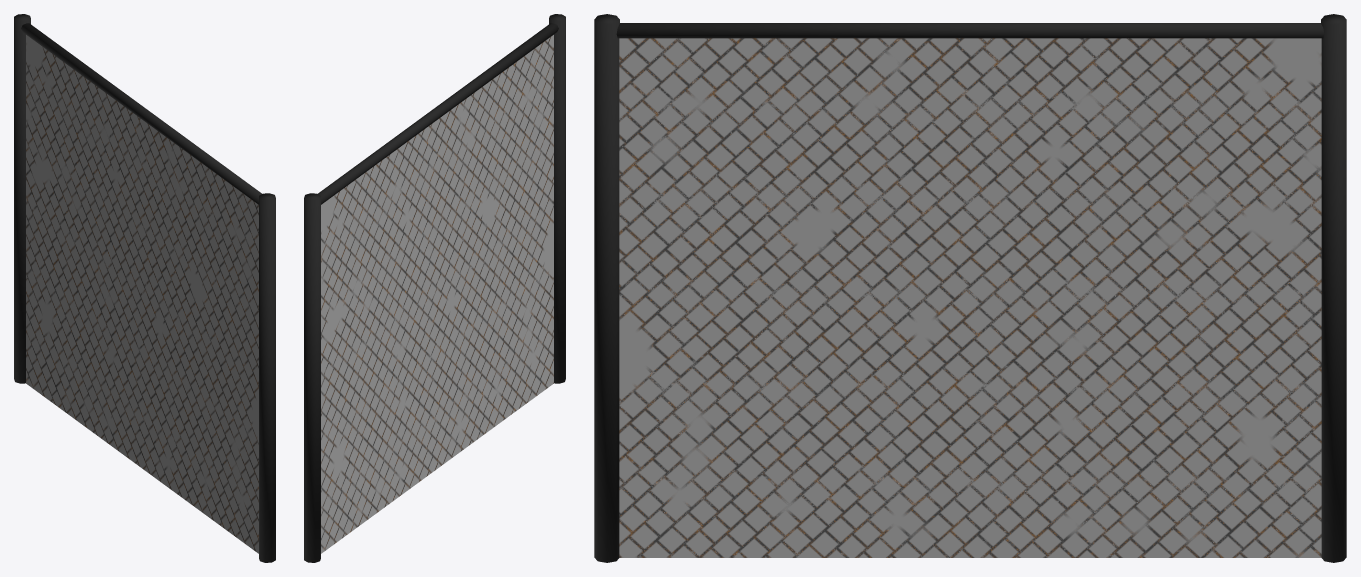
File: WireFence.fbx
3 views of the same model, side by side, from view 1: azimuth 30°, elevation 25°; view 2: azimuth 150°, elevation 25°; view 3: azimuth 270°, elevation 25° (orthographic). The views are drawn at different scales.
Parts seen in each view (by area): view 1: Cube.110; view 2: Cube.110; view 3: Cube.110.
Boxes of the visible parts, x1,y1,x2,y2 form: Cube.110: (14, 14, 275, 562); Cube.110: (304, 14, 565, 562); Cube.110: (594, 14, 1346, 562).
Size of the model in its own units: 7.11 by 163 by 207.
